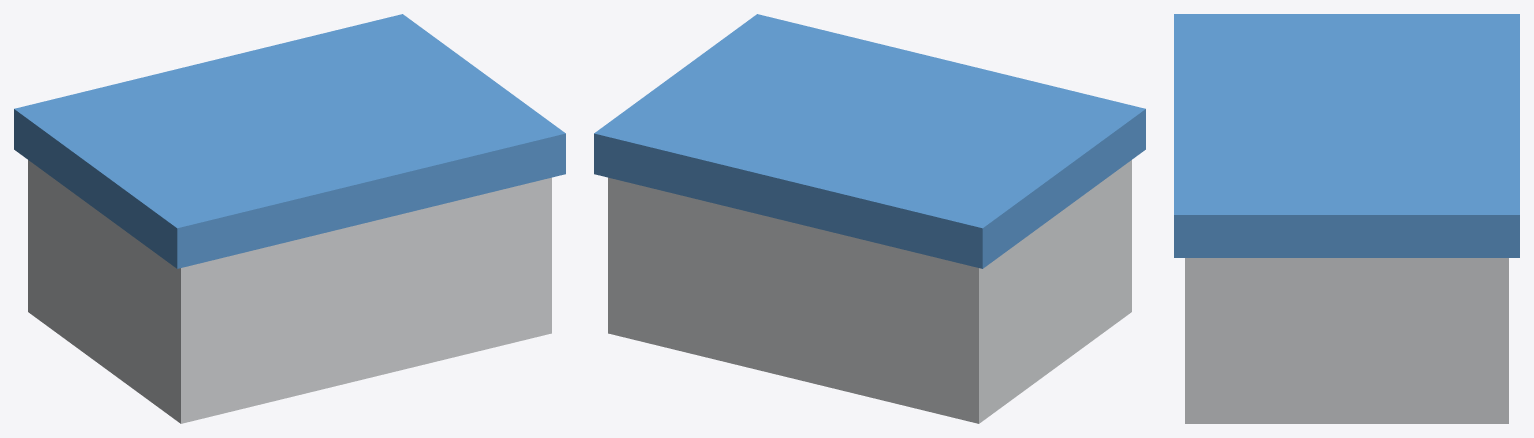
Rendered from Prop_LunchBox.glb.
3 views of the same model, side by side, from view 1: azimuth 30°, elevation 25°; view 2: azimuth 150°, elevation 25°; view 3: azimuth 270°, elevation 25° (orthographic). The views are drawn at different scales.
Visible parts, largest first — view 1: Lid, Base; view 2: Lid, Base; view 3: Lid, Base.
Part boxes in pixels (left/top/right/bottom): Lid: left=14, top=14, right=565, bottom=268; Base: left=28, top=160, right=551, bottom=423; Lid: left=594, top=14, right=1145, bottom=268; Base: left=608, top=160, right=1131, bottom=423; Lid: left=1174, top=14, right=1519, bottom=257; Base: left=1185, top=258, right=1508, bottom=423.
Size of the model in its own units: 0.22 by 0.109 by 0.16.
